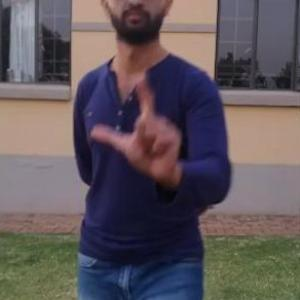land_hand: (90, 66, 188, 182)
